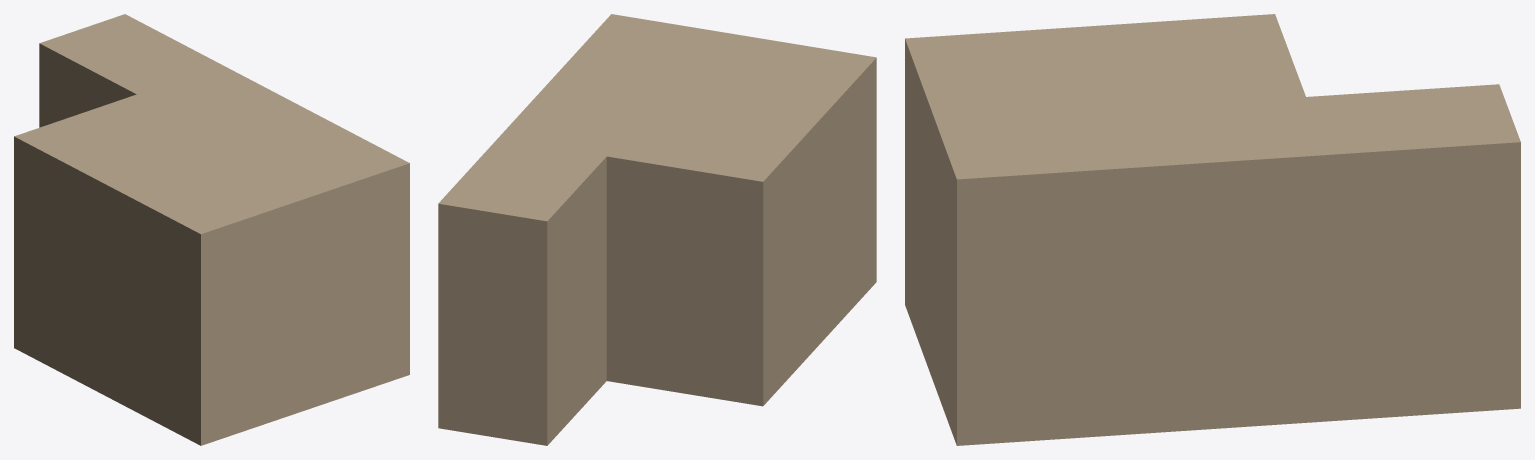
The model's file is bld_107639393.dae.
The picture shows the model from 3 angles, left to right: view 1: azimuth 30°, elevation 25°; view 2: azimuth 150°, elevation 25°; view 3: azimuth 270°, elevation 25°; orthographic projection. The views are drawn at different scales.
Visible parts, largest first — view 1: bld_107639393; view 2: bld_107639393; view 3: bld_107639393.
Part boxes in pixels (<box>): bld_107639393: <box>14,14,409,445</box>; bld_107639393: <box>438,14,876,445</box>; bld_107639393: <box>905,14,1520,445</box>.
Bounding box in the file's own units: 10.66 × 16.76 × 8.
